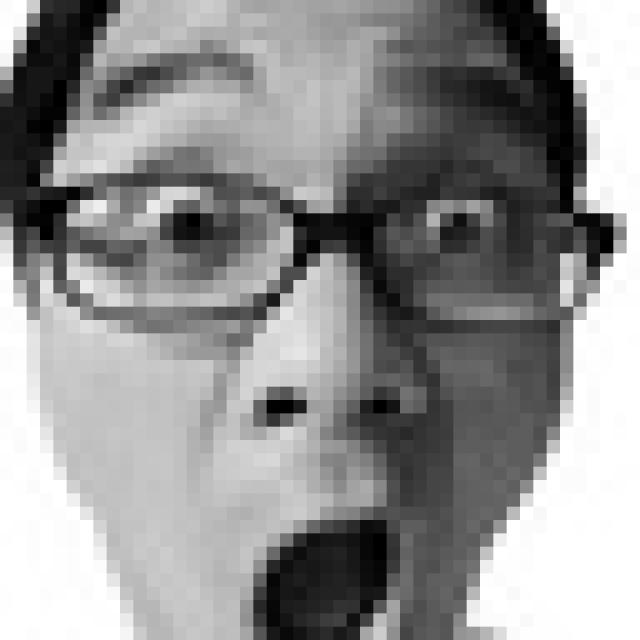surprise: (77, 39, 554, 640)
